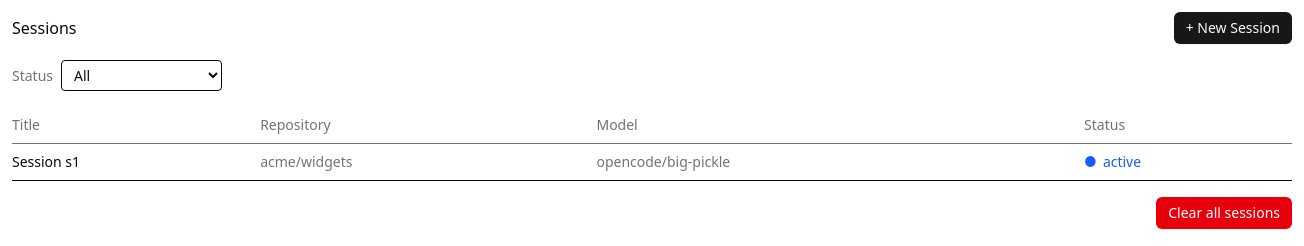
Test: SessionList — status filter › re-fetches with the status query param when the filter changes
The width and height of the screenshot is (1304, 246).
Expected: the link "Session s1" is shown, [12,152,80,171]
Select "Archived" in the dropdown labelled "Status" at (142, 76), box [61,60,222,91]
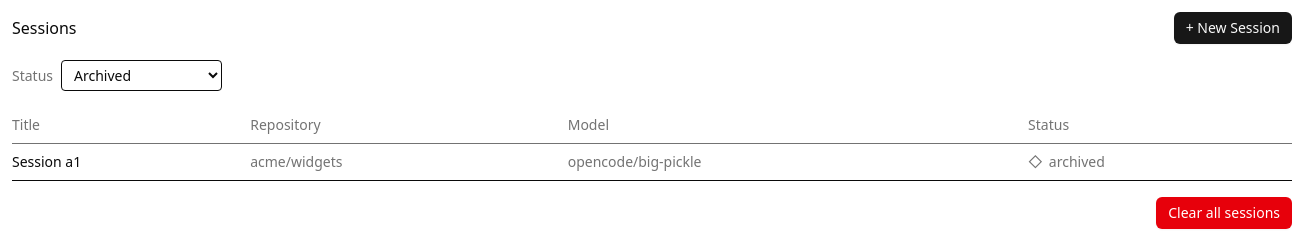
Expected: the link "Session a1" is shown, [12,152,81,171]
Expected: the link "Session s1" is gone
